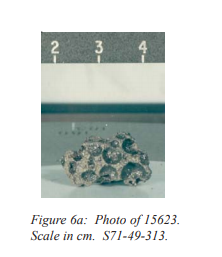Basalt: (51, 120, 157, 193)
